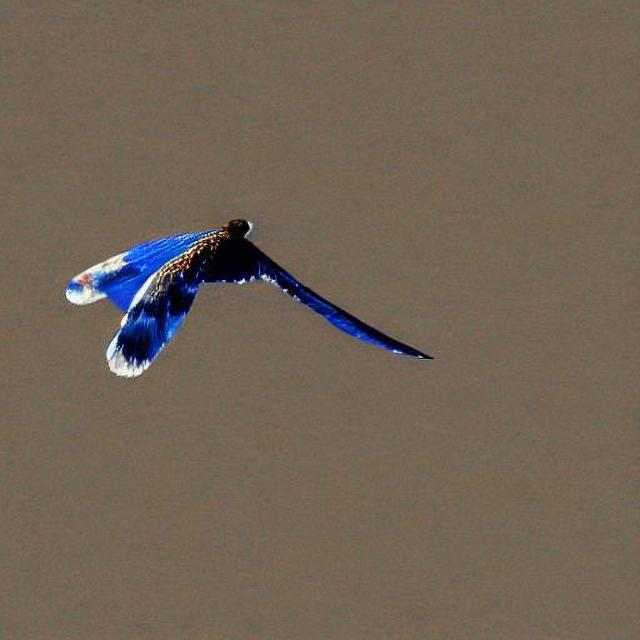floating object: (44, 212, 444, 378)
